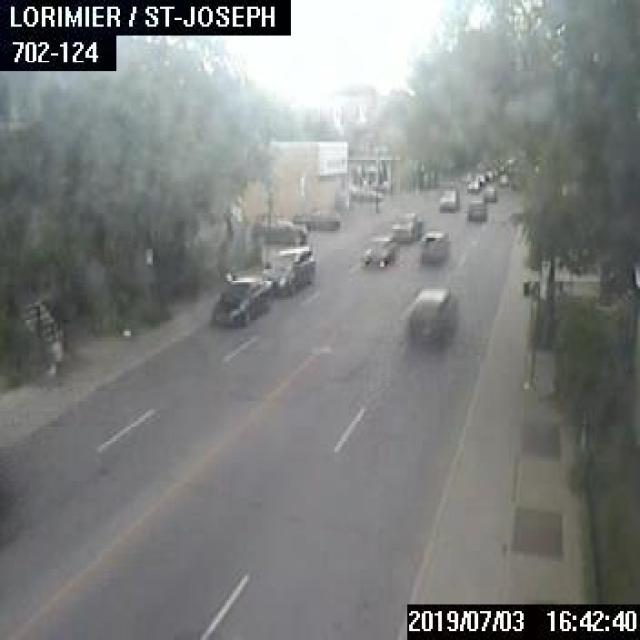vehicle: (210, 274, 272, 326), (403, 287, 456, 342), (260, 244, 314, 295), (249, 213, 307, 245), (362, 232, 396, 266), (291, 208, 338, 229), (419, 230, 447, 261), (390, 211, 420, 239), (436, 187, 456, 209), (465, 198, 484, 220), (354, 188, 381, 200), (481, 184, 494, 198), (466, 176, 477, 190), (483, 168, 491, 180), (497, 173, 506, 183), (474, 172, 482, 182), (497, 163, 503, 170), (491, 167, 496, 175)
